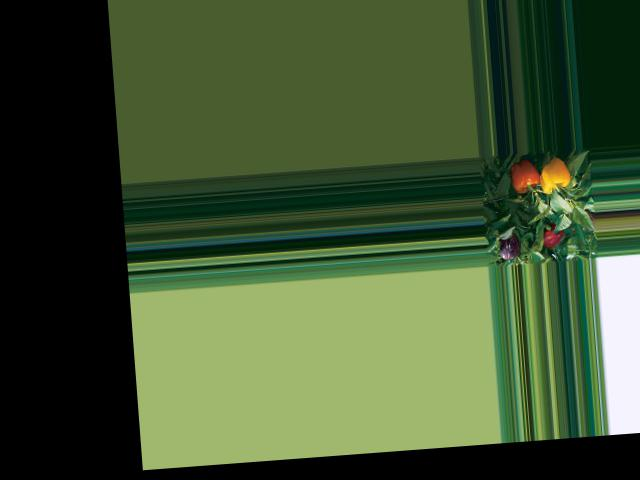bell_pepper: (531, 157, 571, 196)
